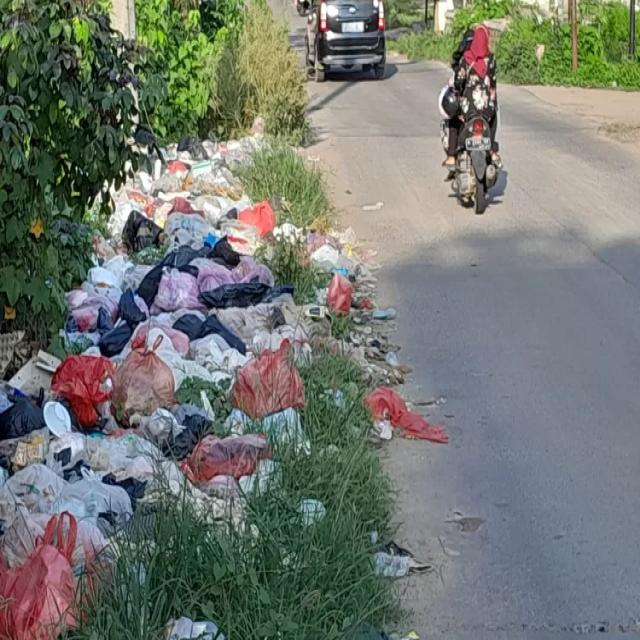trash: (9, 145, 318, 640)
